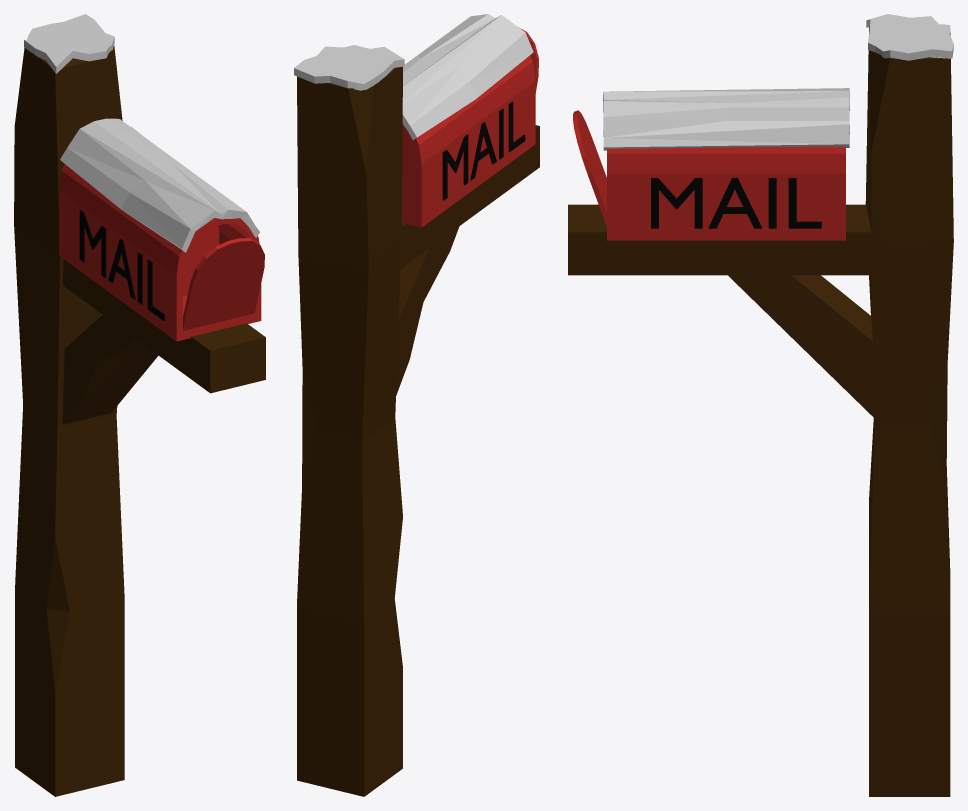
Rendered from Mailbox.fbx.
3 renders of one model, left to right at view 1: azimuth 30°, elevation 25°; view 2: azimuth 150°, elevation 25°; view 3: azimuth 270°, elevation 25°, orthographic. The views are drawn at different scales.
Parts seen in each view (by area): view 1: Merge.001; view 2: Merge.001; view 3: Merge.001.
Boxes of the visible parts, <box> form: Merge.001: <box>14,14,265,796</box>; Merge.001: <box>294,14,539,796</box>; Merge.001: <box>568,14,953,796</box>.
Size of the model in its own units: 24.85 by 202 by 94.01.
